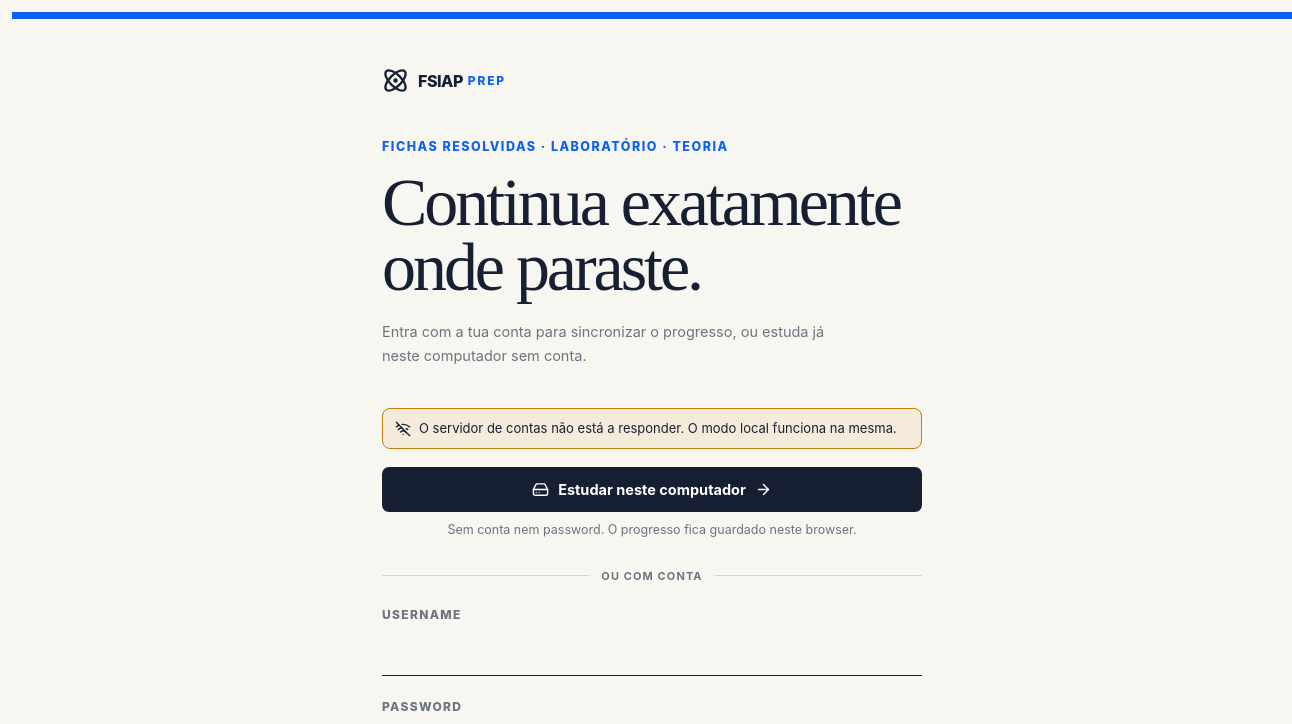
it: sign-in page › starts a local session that survives a reload without calling the server
Later steps or results of the test are not shown.
Click the button "Estudar neste computador" at (652, 490), box [382, 467, 922, 512]
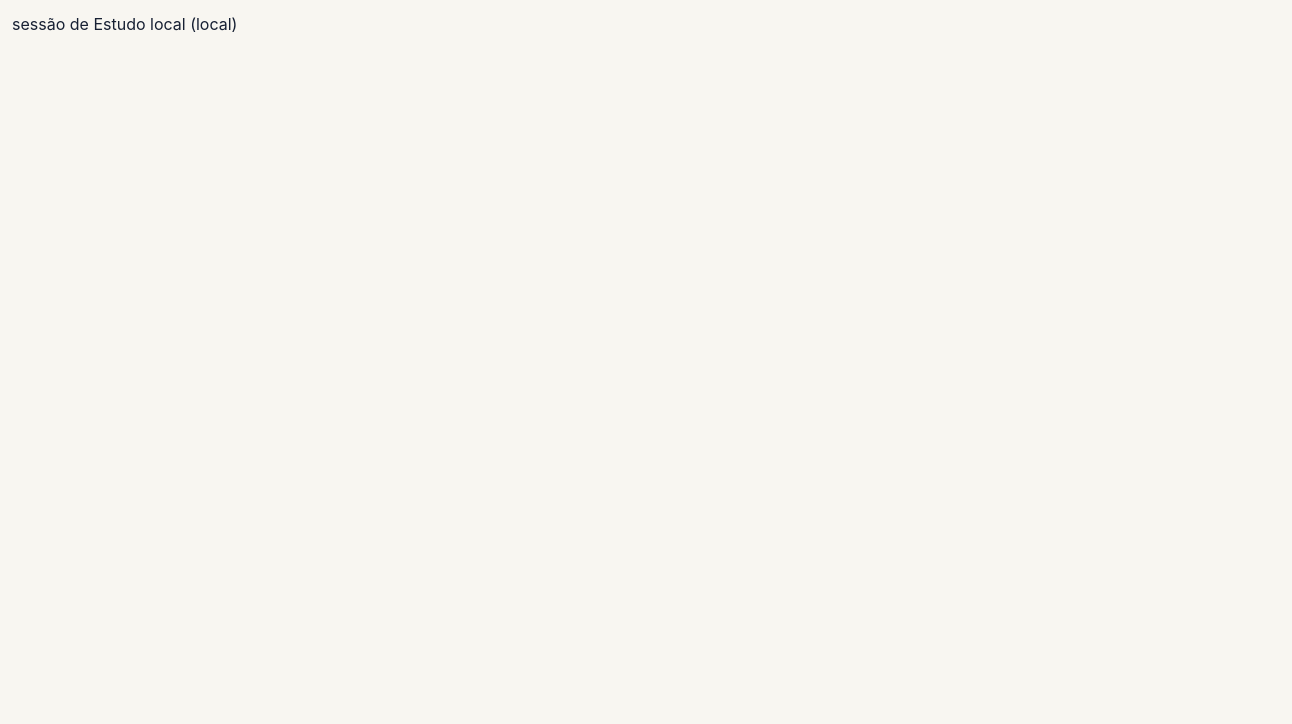
Expected: the text "sessão de Estudo local (local)" is shown, [12, 14, 238, 34]
